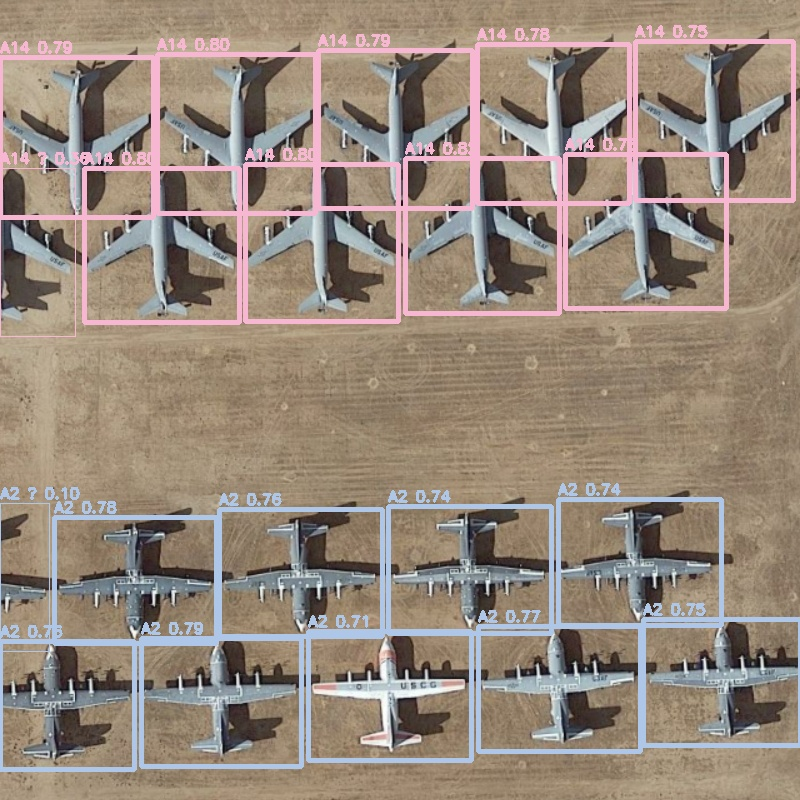A14: (157, 54, 315, 213), (635, 41, 793, 200), (565, 154, 726, 308), (0, 57, 153, 217), (318, 50, 472, 208), (477, 44, 629, 203), (245, 164, 398, 321), (405, 158, 559, 313), (84, 168, 239, 322), (0, 168, 75, 336)
A2: (308, 631, 471, 760), (219, 509, 382, 636), (388, 506, 551, 633), (558, 499, 721, 625), (141, 638, 301, 766), (54, 517, 216, 643), (478, 626, 640, 751), (643, 619, 800, 745), (0, 641, 134, 769), (0, 503, 49, 651)
